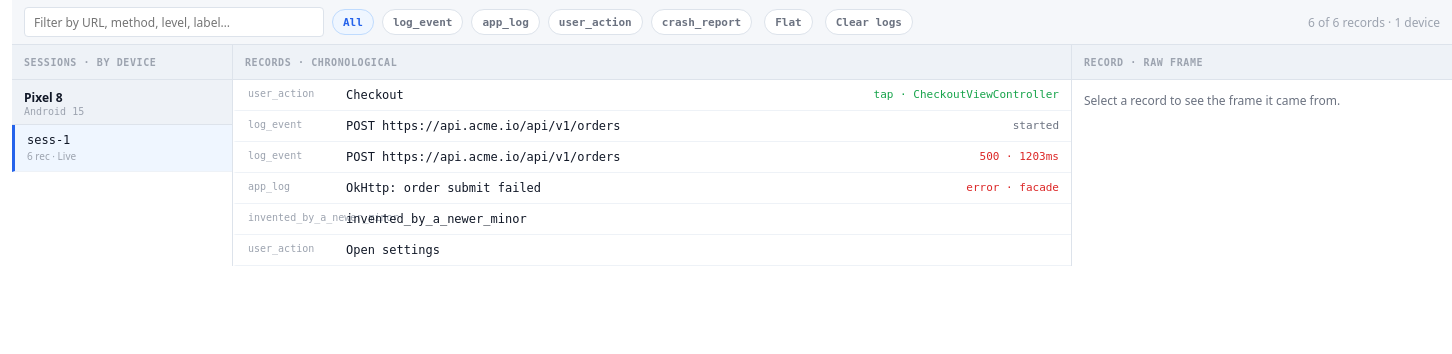
switching between grouped and flat views loses no records
Click the button "Flat" at x=788, y=22, box x1=764 y1=9 x2=813 y2=35
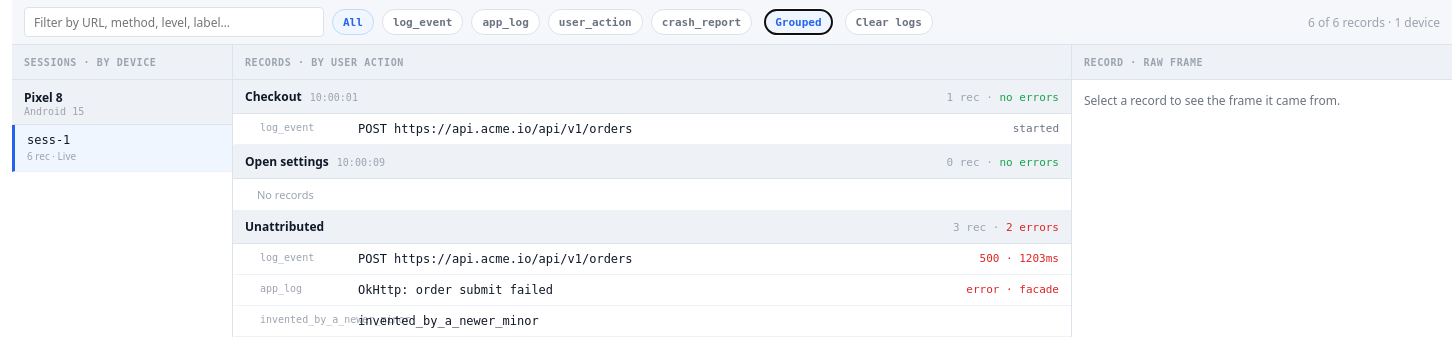
Now the text "Unattributed" is shown, box x1=245 y1=218 x2=324 y2=235
Now the text "No records" is shown, box x1=257 y1=187 x2=314 y2=202
Now the text "2 errors" is shown, box x1=1006 y1=221 x2=1059 y2=234
Click the button "Grouped" at x=798, y=22, box x1=764 y1=9 x2=833 y2=35
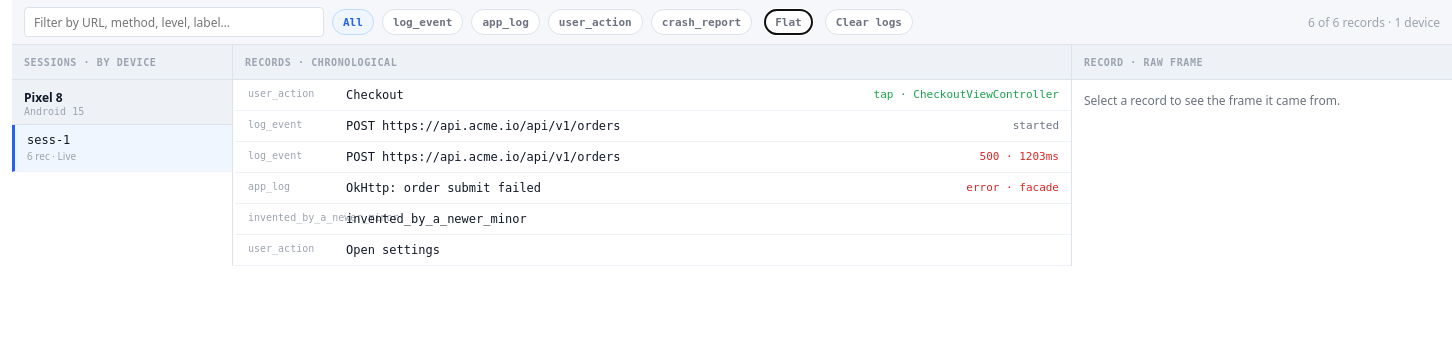
Expected: the text "6 of 6 records · 1 device" is shown, x1=1308 y1=14 x2=1440 y2=30
Now the text "Unattributed" is gone
